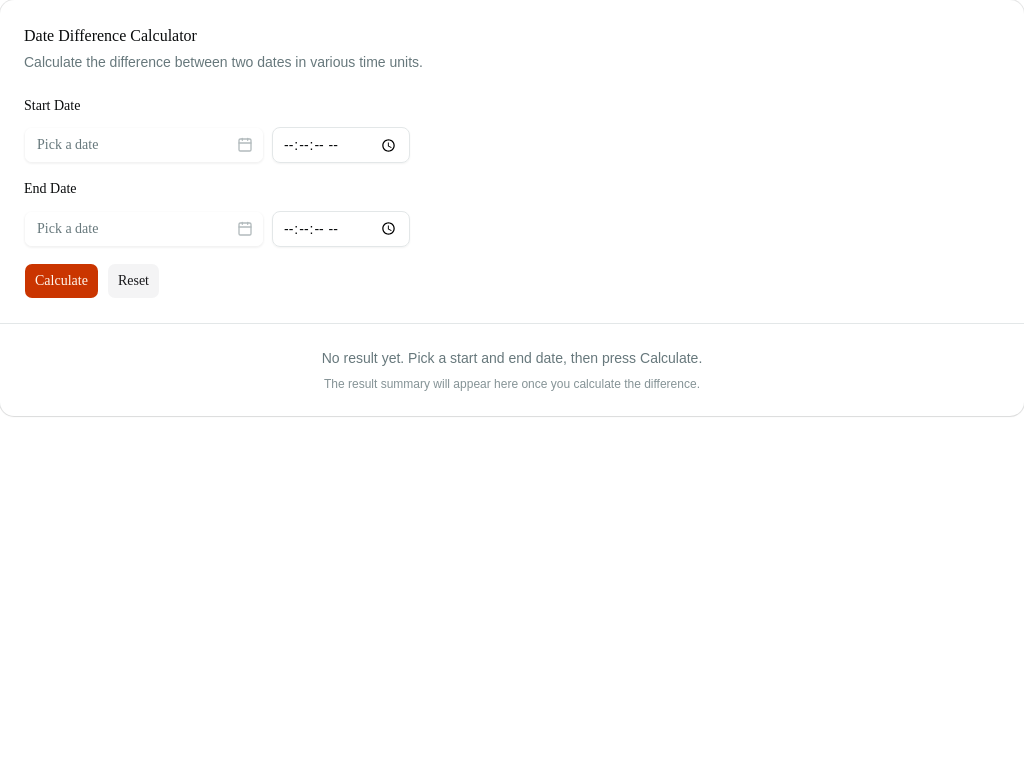
DateDifference › onSubmit success › shows duration summary when start-before-end
This screenshot has width=1024, height=768.
Click the button with id "calendar-startDate" at (144, 145), box [24, 127, 264, 163]
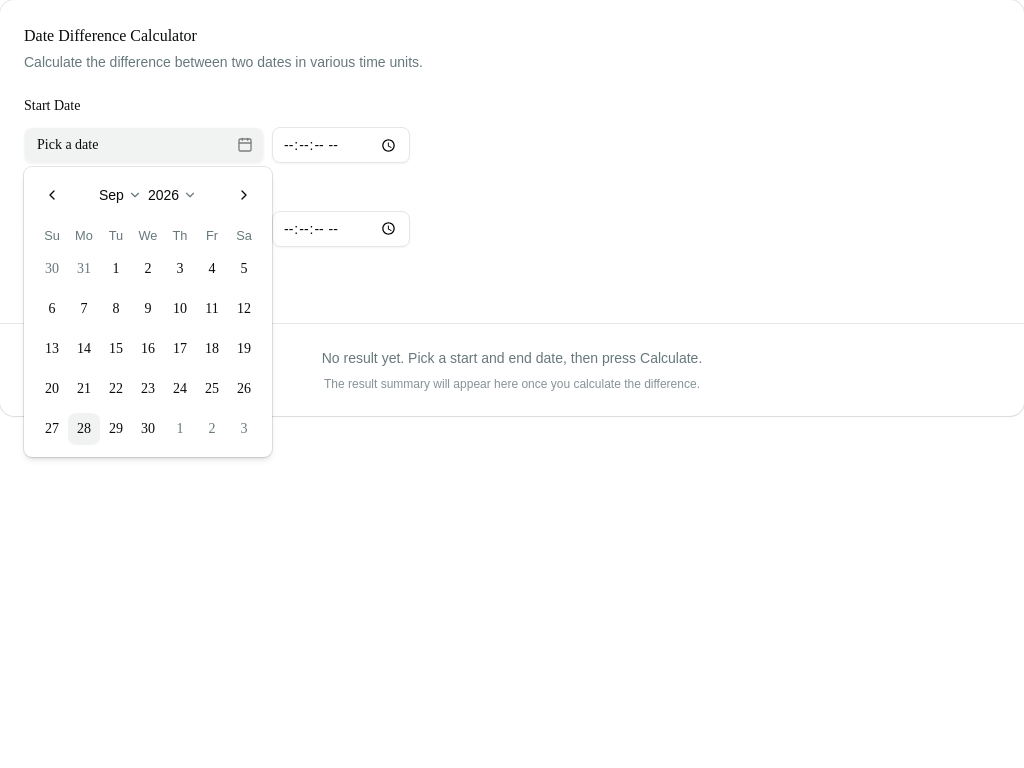
Click the 1st button "30" at (52, 269), box [36, 253, 68, 285]
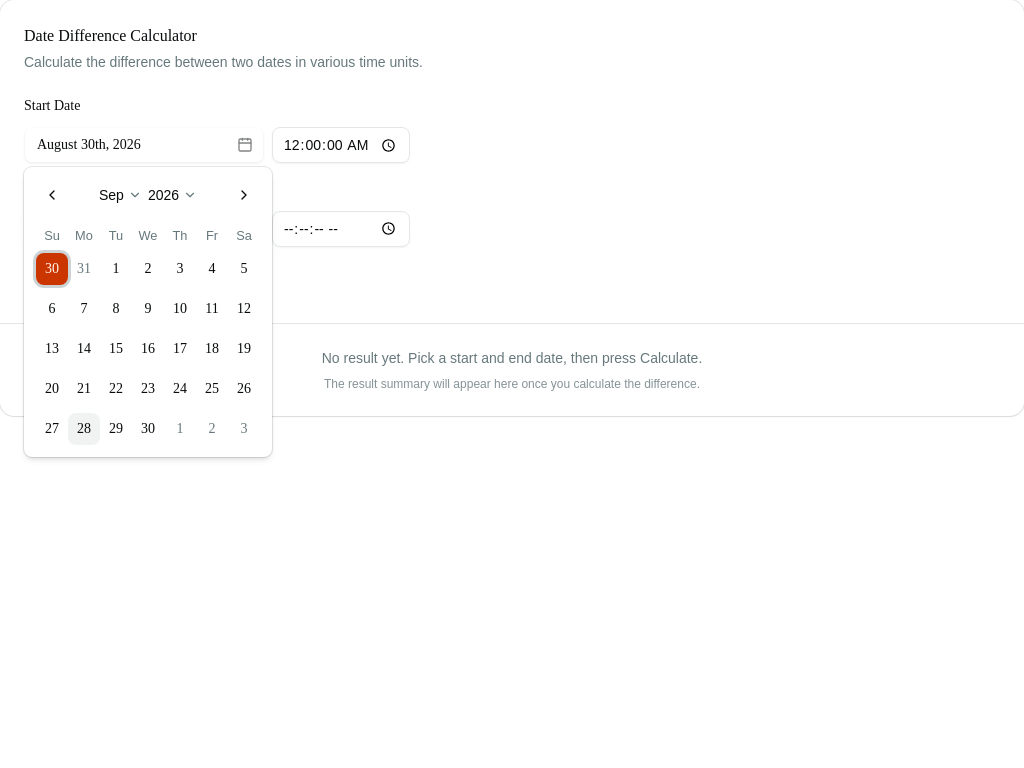
Click the button with id "calendar-endDate" at (144, 228), box [24, 210, 264, 246]
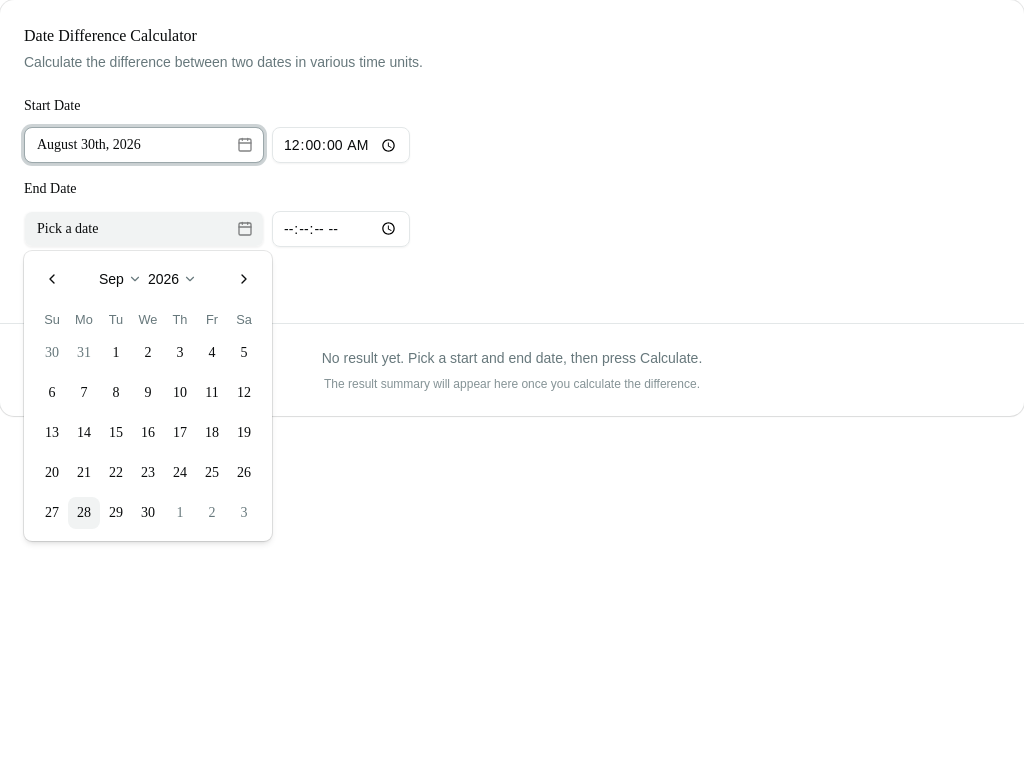
Click the button "31" at (84, 353), box [68, 337, 100, 369]
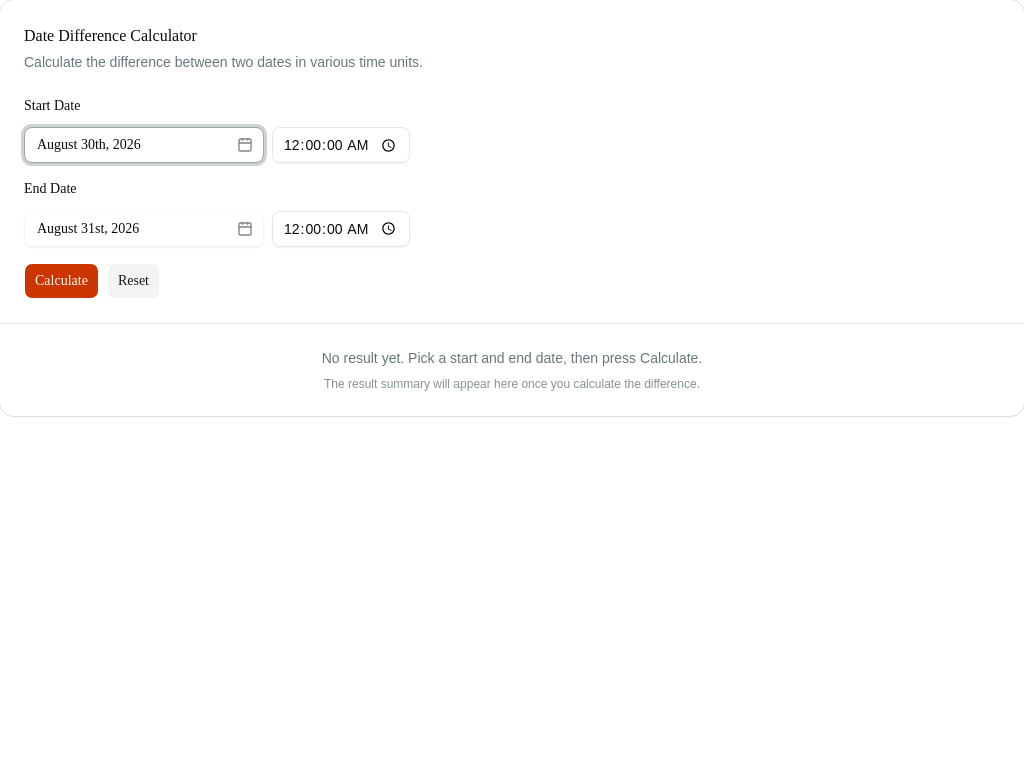
Click the button with aria-label "calculate difference" at (61, 280), box [24, 262, 99, 298]
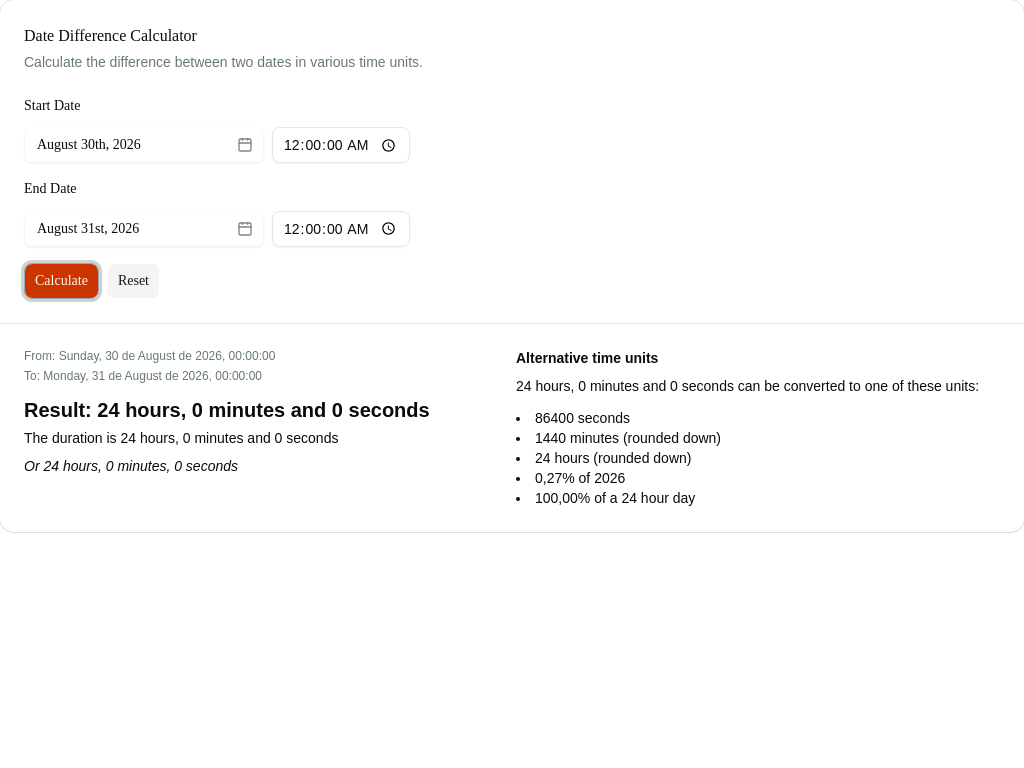
Expected: the text "Result: 24 hours, 0 minutes and 0 seconds" is shown, [24, 398, 430, 420]
Expected: the text "Alternative time units" is shown, [516, 350, 658, 366]
Expected: the text "can be converted to one of these units" is shown, [734, 378, 979, 394]
